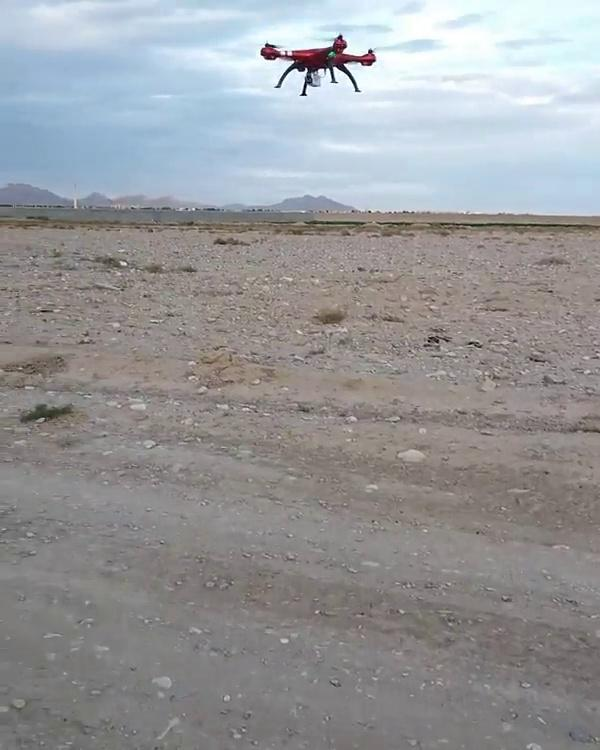drone: (255, 32, 380, 97)
